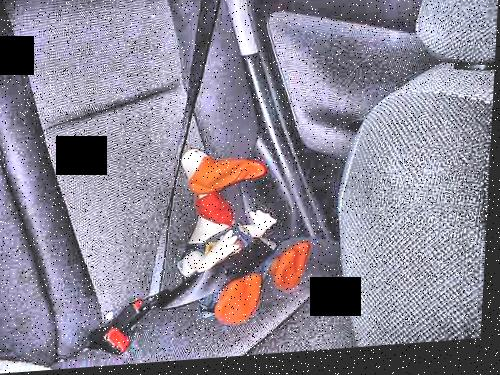seatbelt: (136, 0, 308, 307)
